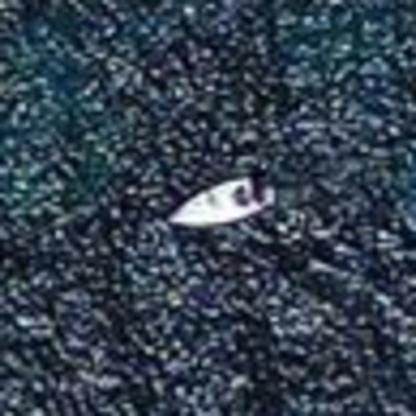ship: (161, 160, 279, 239)
